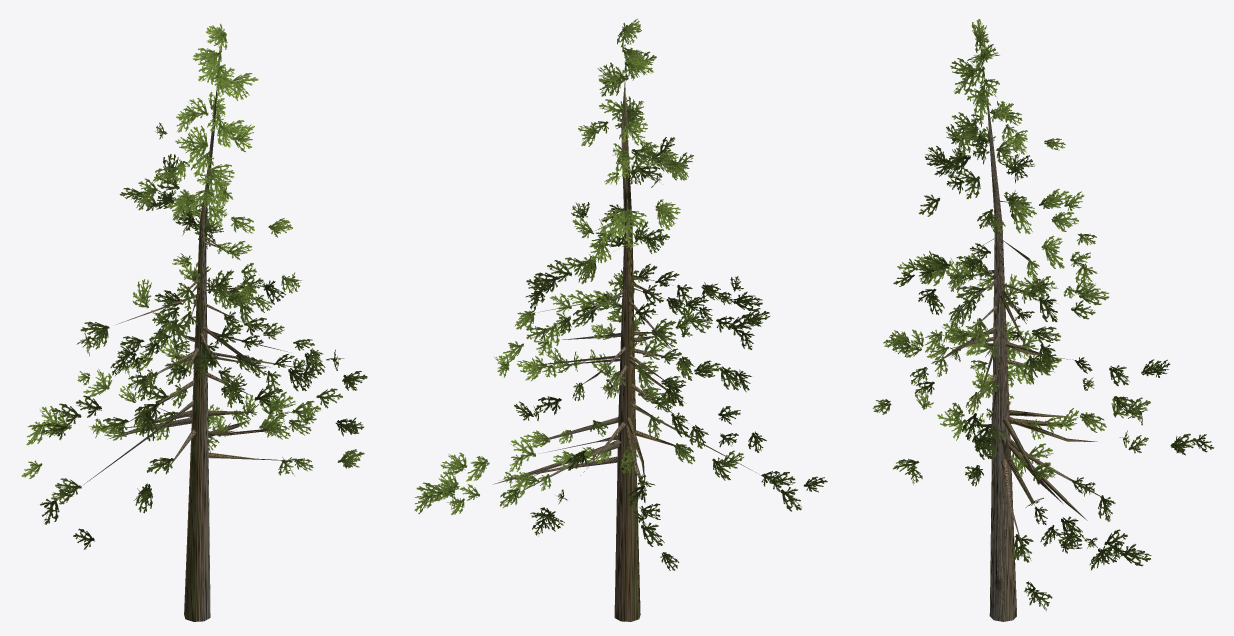
Rendered from pine-far.glb.
3 renders of one model, left to right at view 1: azimuth 30°, elevation 25°; view 2: azimuth 150°, elevation 25°; view 3: azimuth 270°, elevation 25°, orthographic. The views are drawn at different scales.
Visible parts, largest first — view 1: pine-leaves, pine-bark; view 2: pine-leaves, pine-bark; view 3: pine-leaves, pine-bark.
Part boxes in pixels (x1=…): pine-leaves: x1=21, y1=23, x2=367, y2=549; pine-bark: x1=84, y1=88, x2=315, y2=621; pine-leaves: x1=414, y1=18, x2=827, y2=570; pine-bark: x1=493, y1=81, x2=759, y2=621; pine-leaves: x1=872, y1=19, x2=1214, y2=611; pine-bark: x1=937, y1=86, x2=1113, y2=621.
Bounding box in the file's own units: 7.89 × 12.49 × 6.68.
Materials: 2 (2 with a texture image).
